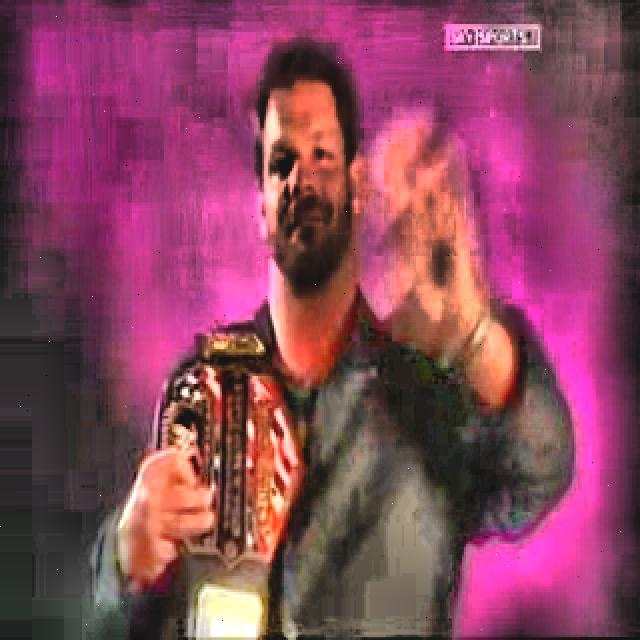L: (84, 43, 572, 636)
